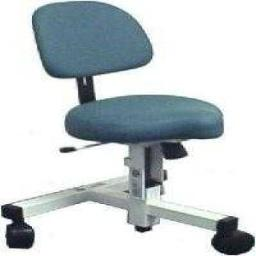Chair: (2, 1, 256, 256)
